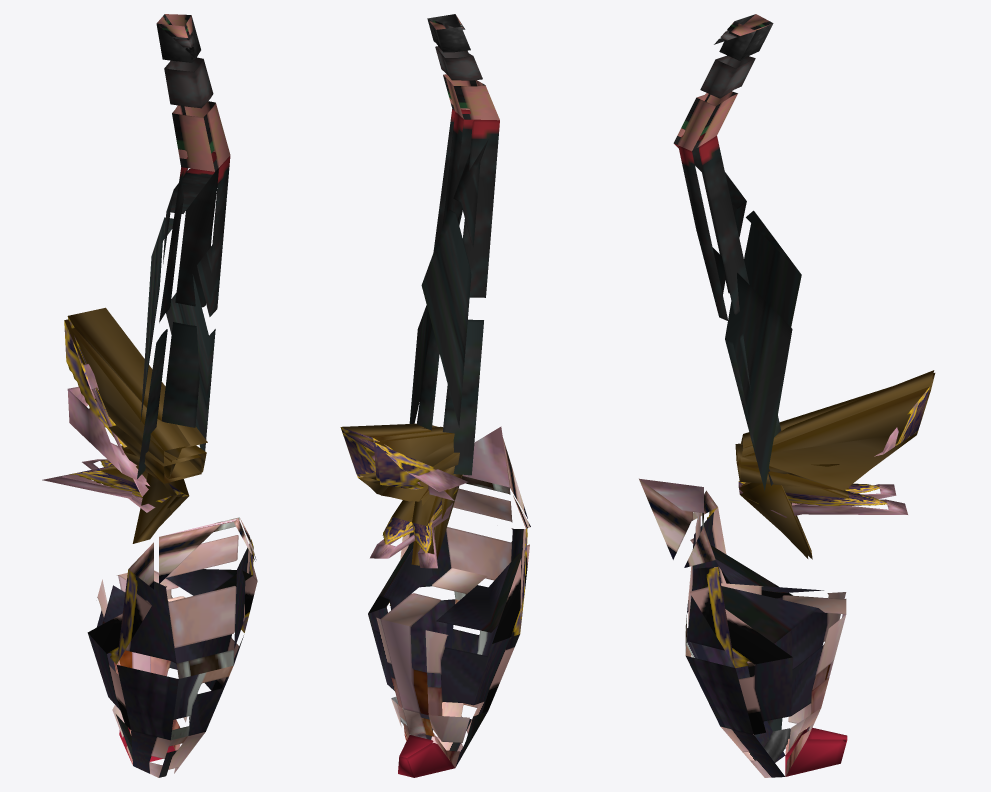
3 renders of one model, left to right at view 1: azimuth 30°, elevation 25°; view 2: azimuth 150°, elevation 25°; view 3: azimuth 270°, elevation 25°, orthographic. The views are drawn at different scales.
Visible parts, largest first — view 1: T1L3M004_23; view 2: T1L3M004_23; view 3: T1L3M004_23.
Boxes of the visible parts, x1,y1,x2,y2 form: T1L3M004_23: [42, 14, 257, 777]; T1L3M004_23: [340, 14, 530, 777]; T1L3M004_23: [639, 14, 935, 777].
Size of the model in its own units: 0.2383 by 0.748 by 0.3545.
